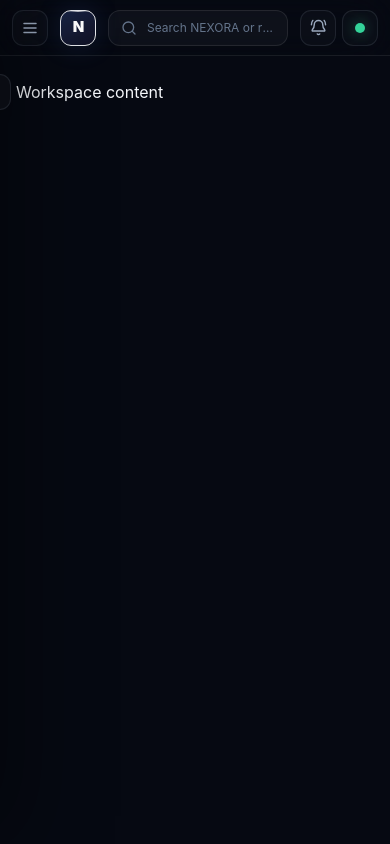
Test: dashboard foundation components › opens and closes mobile navigation accessibly
Click the button named "Open navigation".
click(30, 28)  # box [12,10,48,46]
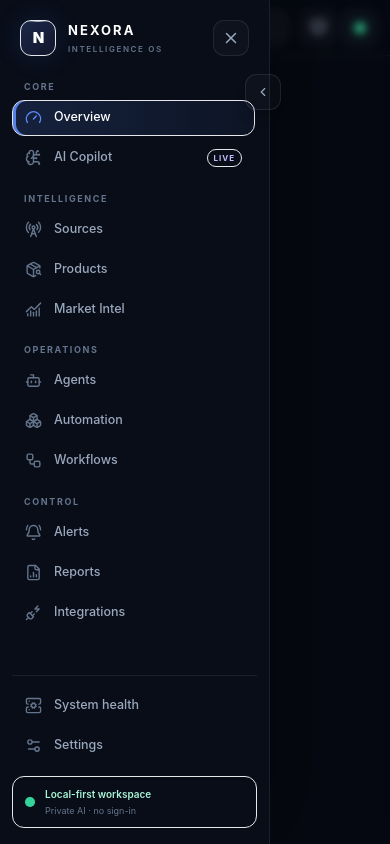
expect the button named "Open navigation" is expanded: met, box [12,10,48,46]
Click the button named "Close navigation".
click(231, 38)  # box [213,20,249,56]
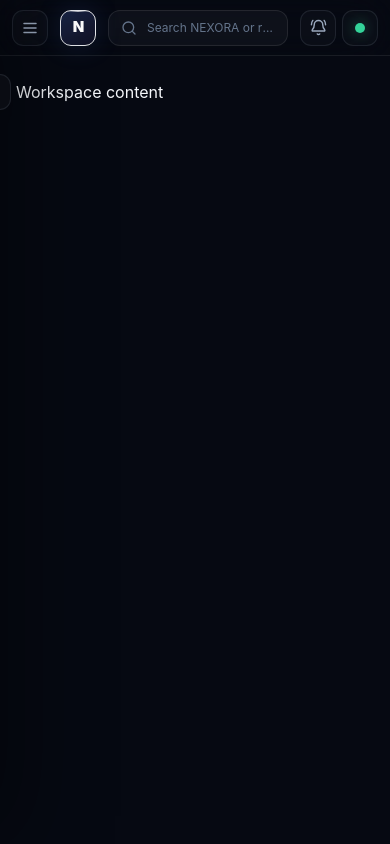
expect the button named "Open navigation" is collapsed: met, box [12,10,48,46]
